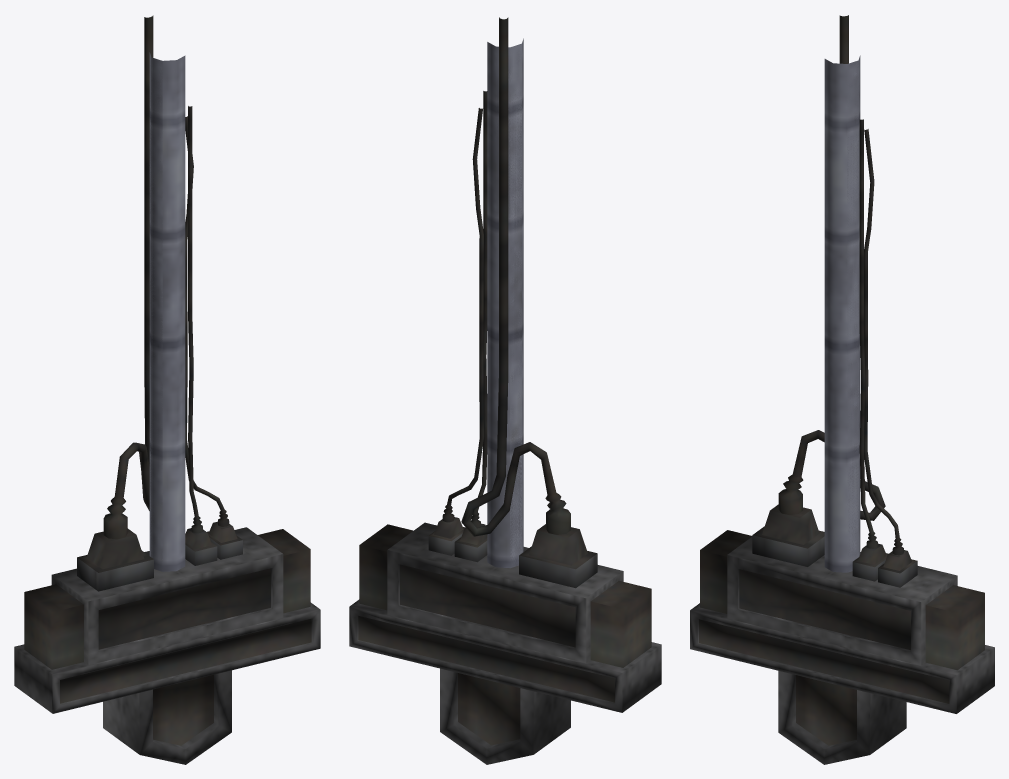
Rendered from grave_message_board.glb.
3 views of the same model, side by side, from view 1: azimuth 30°, elevation 25°; view 2: azimuth 150°, elevation 25°; view 3: azimuth 330°, elevation 25° (orthographic). The views are drawn at different scales.
Parts seen in each view (by area): view 1: Cube, Cube.001, Cube.002, Cube.003, Cube.004; view 2: Cube, Cube.001, Cube.002, Cube.004, Cube.003; view 3: Cube, Cube.001, Cube.002, Cube.003, Cube.004.
Boxes of the visible parts, box(x1,y1,x2,y2) form: Cube: box(14, 527, 320, 764); Cube.001: box(149, 52, 185, 571); Cube.002: box(77, 15, 153, 591); Cube.003: box(185, 106, 217, 565); Cube.004: box(185, 116, 242, 559); Cube: box(349, 522, 661, 764); Cube.001: box(487, 38, 523, 568); Cube.002: box(461, 17, 597, 588); Cube.004: box(428, 108, 484, 555); Cube.003: box(454, 91, 487, 562); Cube: box(690, 530, 994, 764); Cube.001: box(824, 55, 860, 572); Cube.002: box(752, 15, 885, 566); Cube.003: box(852, 119, 888, 581); Cube.004: box(864, 129, 917, 587).
Bounding box in the file's own units: 1.69 × 4.41 × 0.462.
Materials: 4 (4 with a texture image).
